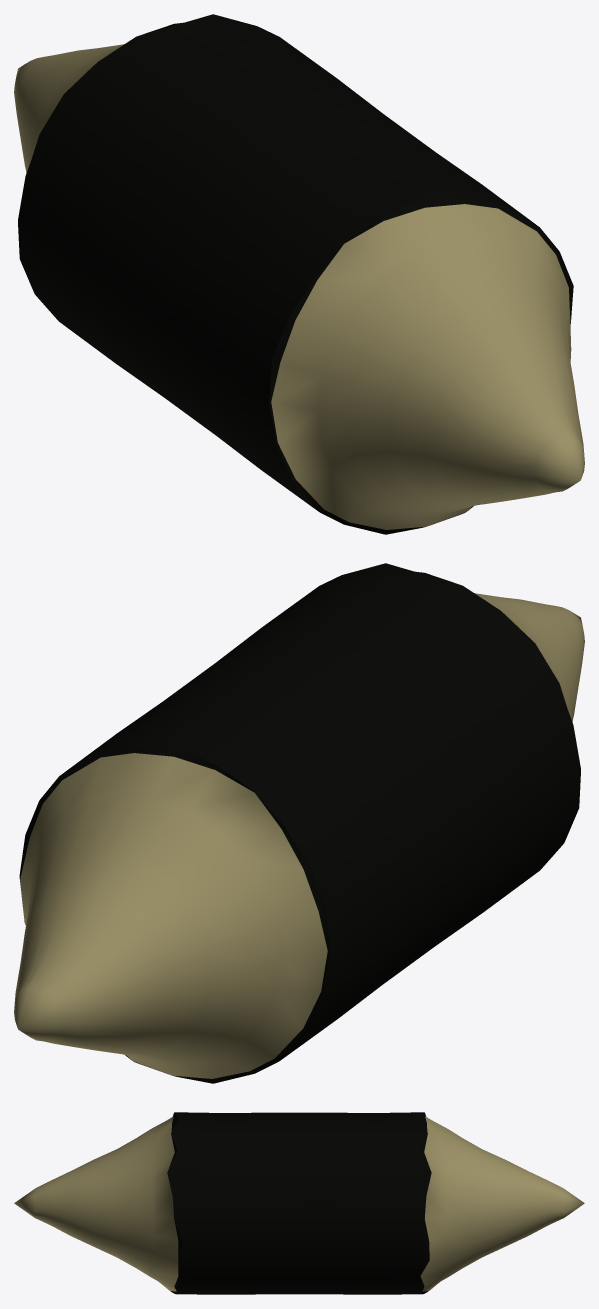
File: SM_buche-1mX1m_C_v01.FBX
3 renders of one model, top to bottom at view 1: azimuth 30°, elevation 25°; view 2: azimuth 150°, elevation 25°; view 3: azimuth 270°, elevation 25°, orthographic. The views are drawn at different scales.
Visible parts, largest first — view 1: SM_buche-1mX1m_C; view 2: SM_buche-1mX1m_C; view 3: SM_buche-1mX1m_C.
Boxes of the visible parts, x1=… form: SM_buche-1mX1m_C: x1=14, y1=14, x2=584, y2=534; SM_buche-1mX1m_C: x1=14, y1=563, x2=584, y2=1083; SM_buche-1mX1m_C: x1=14, y1=1112, x2=584, y2=1294.
Bounding box in the file's own units: 0.752 × 0.7516 × 2.33.
